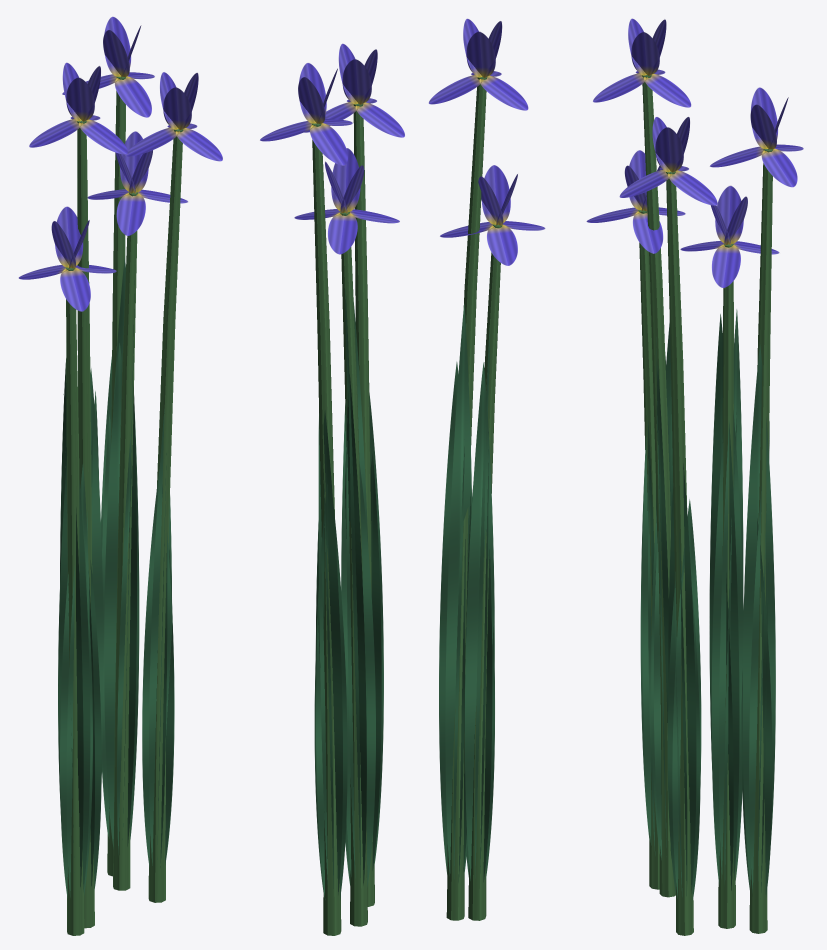
Rendered from swamp_iris_v01.glb.
3 views of the same model, side by side, from view 1: azimuth 30°, elevation 25°; view 2: azimuth 150°, elevation 25°; view 3: azimuth 270°, elevation 25° (orthographic). The views are drawn at different scales.
Visible parts, largest first — view 1: swamp_iris_v01; view 2: swamp_iris_v01; view 3: swamp_iris_v01.
Part boxes in pixels (<box>): swamp_iris_v01: <box>18,16,222,935</box>; swamp_iris_v01: <box>260,18,545,935</box>; swamp_iris_v01: <box>586,18,803,935</box>.
Bounding box in the file's own units: 0.2036 × 0.8275 × 0.2005.
3 materials, 3 textured.
